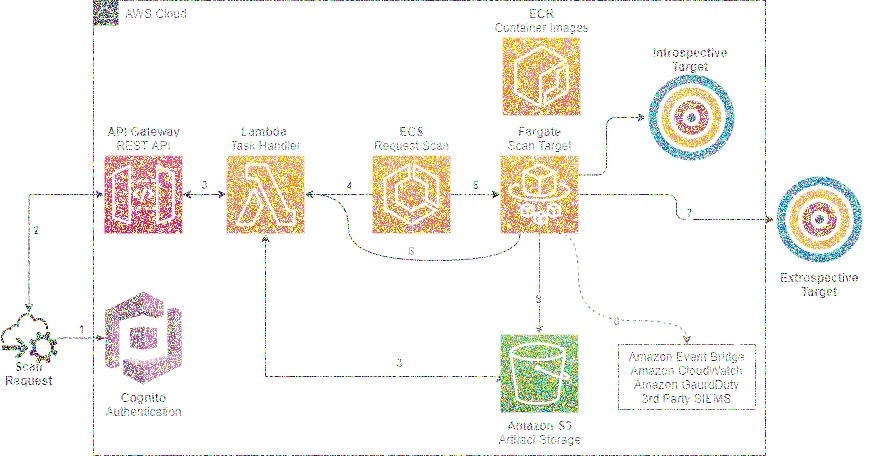API-Gateway: (100, 150, 187, 236)
Cognito: (100, 285, 187, 390)
Elastic Container Registry: (495, 32, 587, 119)
Elastic Container Service: (368, 151, 456, 238)
Fargate: (494, 150, 582, 236)
Lambda: (223, 151, 308, 236)
S3: (495, 328, 585, 416)
aws: (92, 0, 122, 25)
